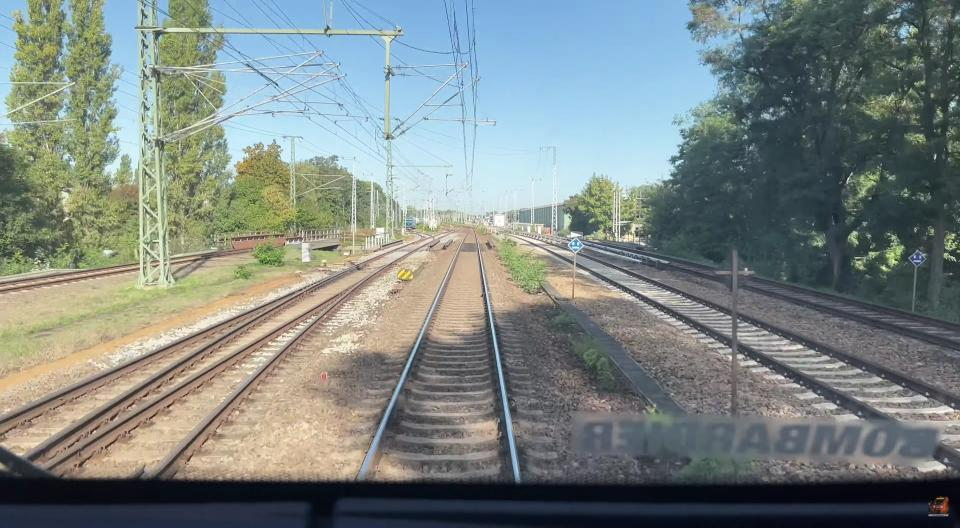Plant: (574, 338, 622, 392), (498, 239, 546, 293), (670, 457, 757, 482), (548, 310, 574, 331)
